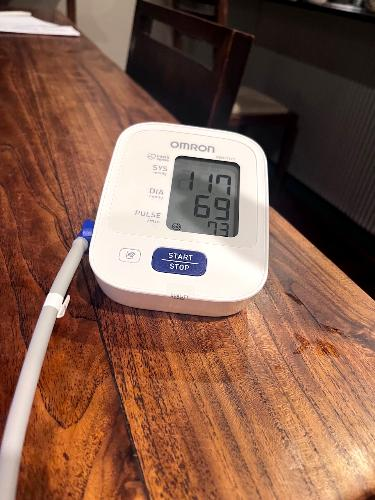bpm: (164, 154, 250, 240)
